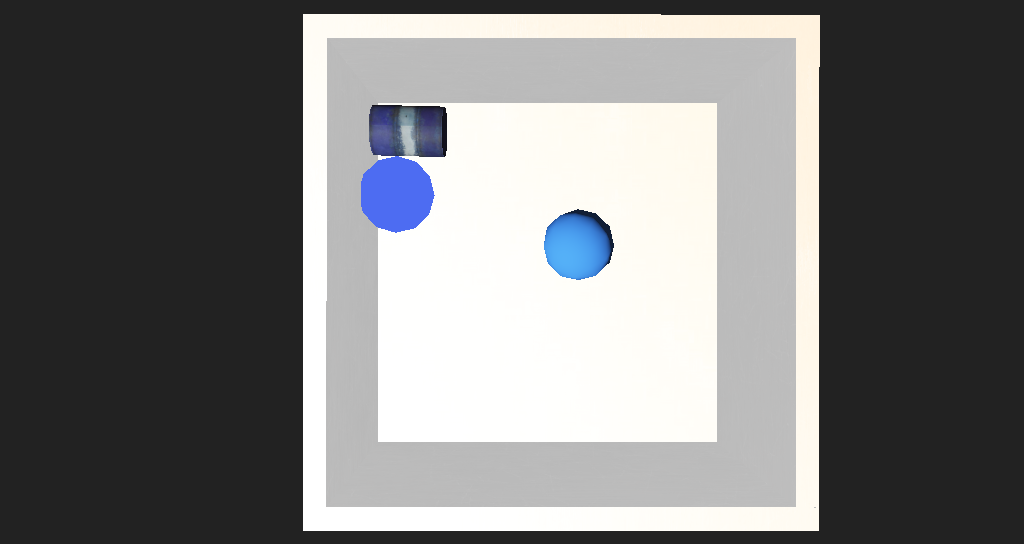cone: (347, 157, 421, 196)
cylinder: (340, 196, 414, 243)
sphere: (502, 231, 563, 274)
